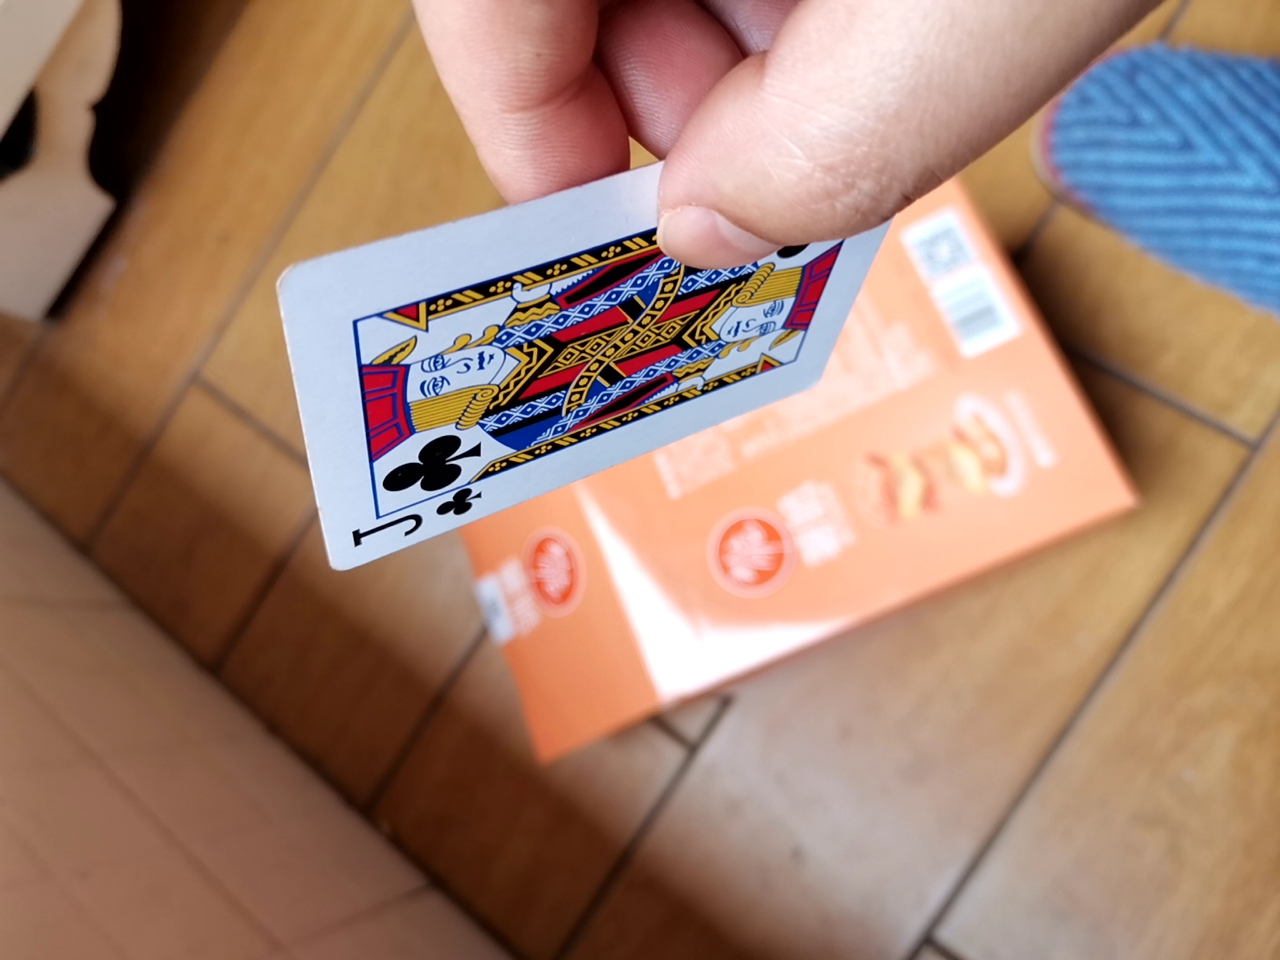mh j: (241, 146, 1048, 628)
